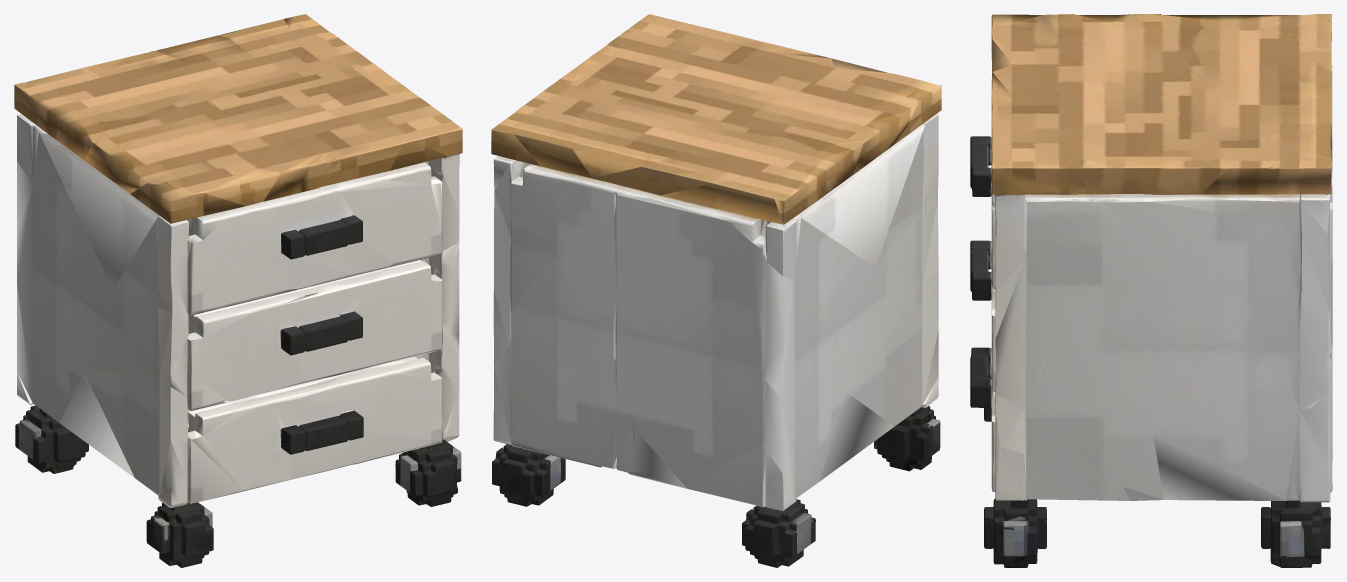
The model's file is filing_pedestal.glb.
3 renders of one model, left to right at view 1: azimuth 30°, elevation 25°; view 2: azimuth 150°, elevation 25°; view 3: azimuth 270°, elevation 25°, orthographic. The views are drawn at different scales.
Size of the model in its own units: 1.73 by 2 by 1.63.
1 material, 1 textured.
